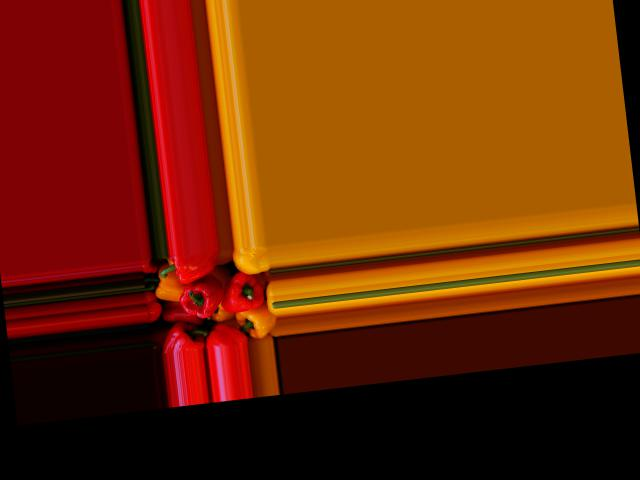bell_pepper: (238, 302, 277, 337)
